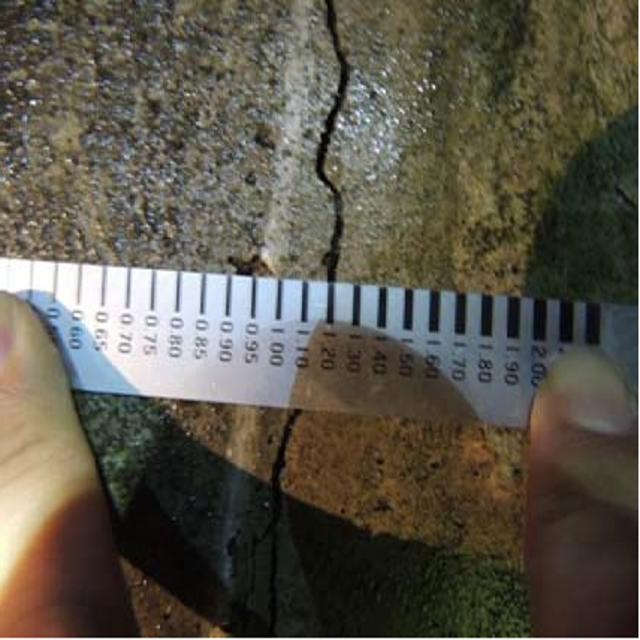crack: (294, 3, 369, 278), (224, 415, 307, 640)
